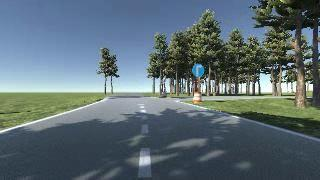turn_right: (191, 64, 204, 77)
